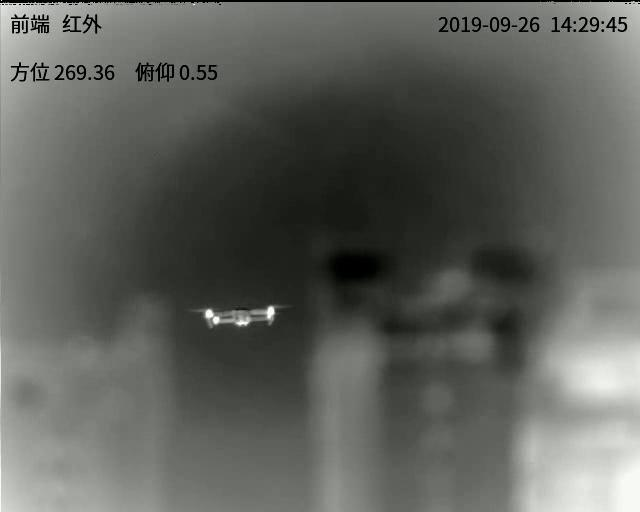DRONE: (203, 304, 279, 331)
